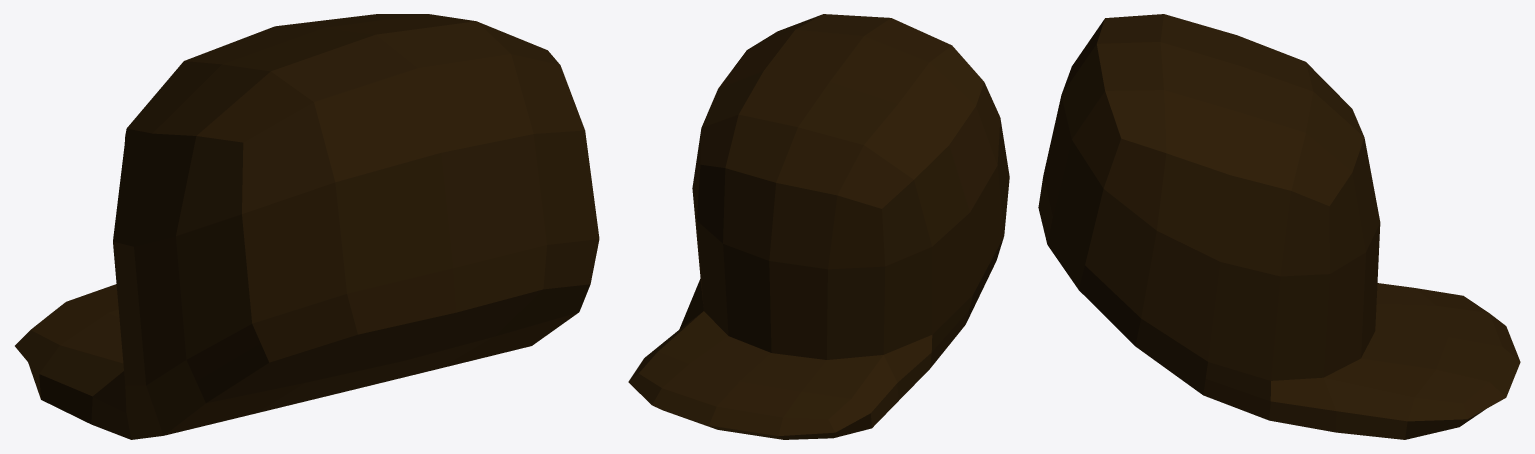
File: Hat 1.fbx
3 views of the same model, side by side, from view 1: azimuth 30°, elevation 25°; view 2: azimuth 150°, elevation 25°; view 3: azimuth 270°, elevation 25° (orthographic). The views are drawn at different scales.
Visible parts, largest first — view 1: Hat; view 2: Hat; view 3: Hat.
Part boxes in pixels (x1,y1,x2,y2): Hat: (15, 14, 599, 439); Hat: (628, 14, 1009, 439); Hat: (1038, 14, 1520, 439).
Bounding box in the file's own units: 40.75 × 42.49 × 55.46.
